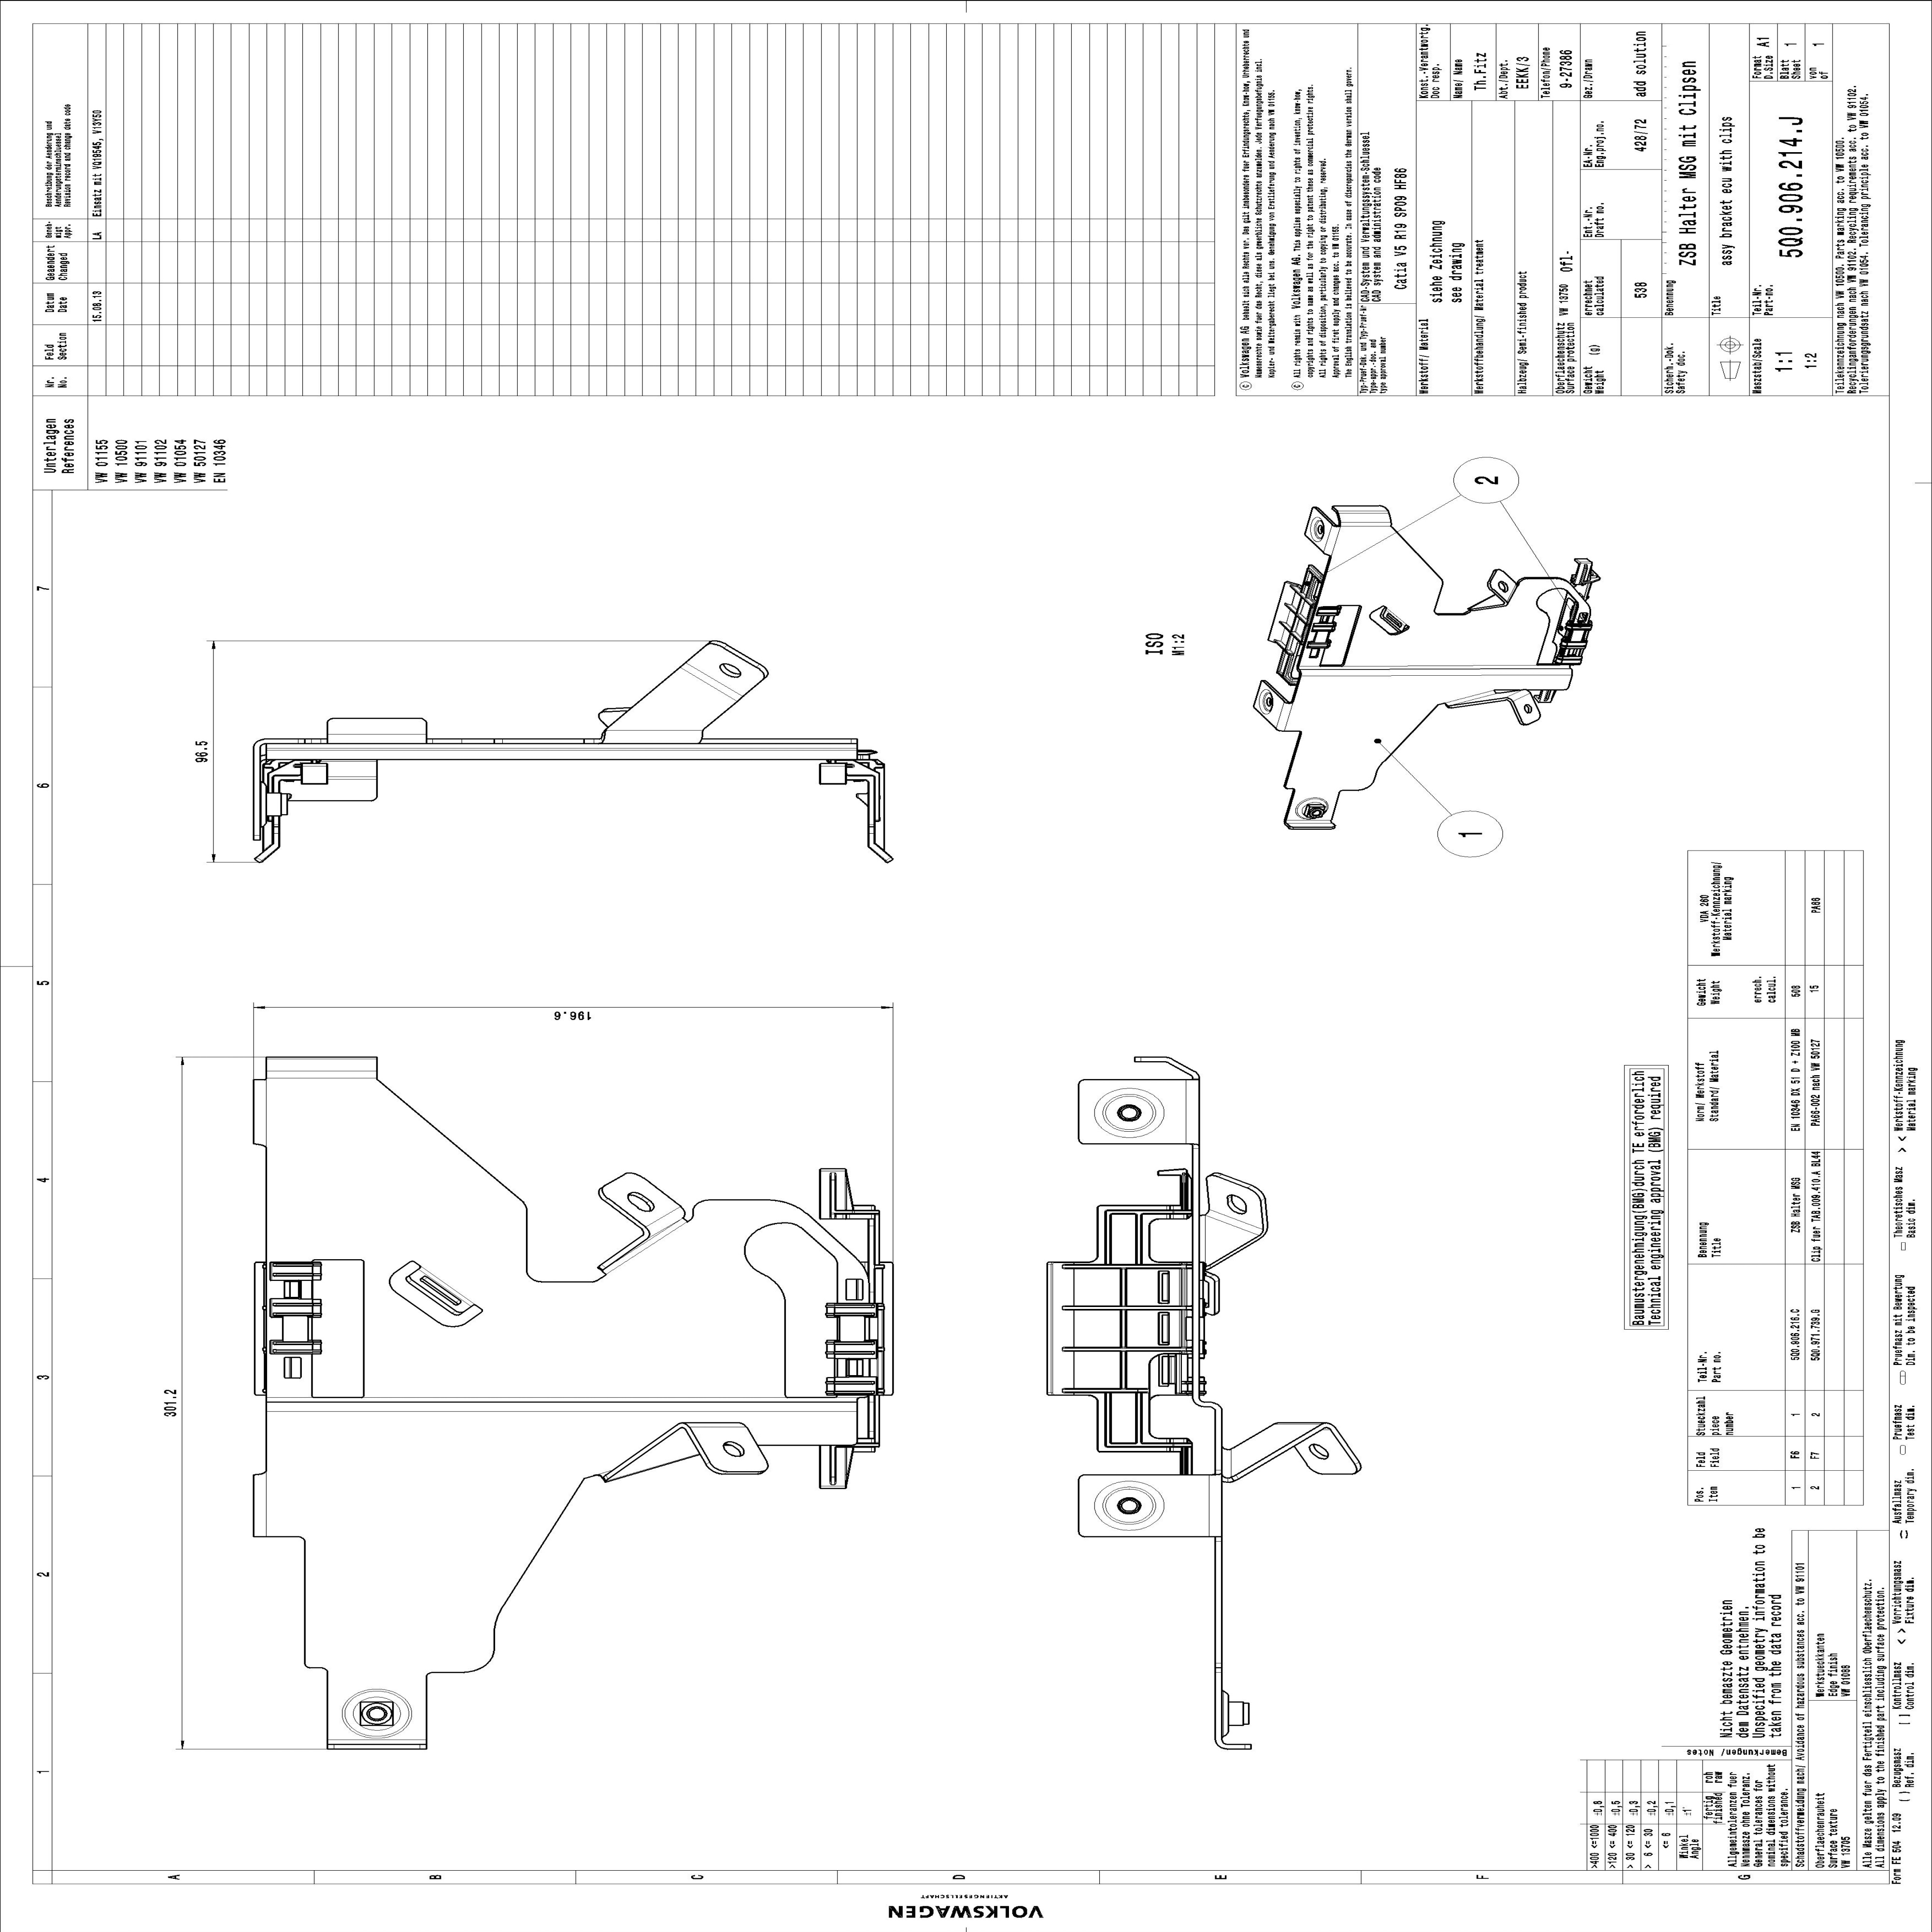BendingEdge: (682, 663, 749, 704)
InnerContour: (620, 1184, 660, 1219), (1251, 686, 1282, 718), (719, 1434, 750, 1463), (1306, 514, 1329, 545), (717, 658, 745, 683), (1226, 1191, 1248, 1216), (1307, 1443, 1329, 1461), (1498, 579, 1509, 593), (1524, 702, 1533, 715)
ThroughHole: (1093, 1087, 1166, 1139), (1094, 1480, 1166, 1532)
